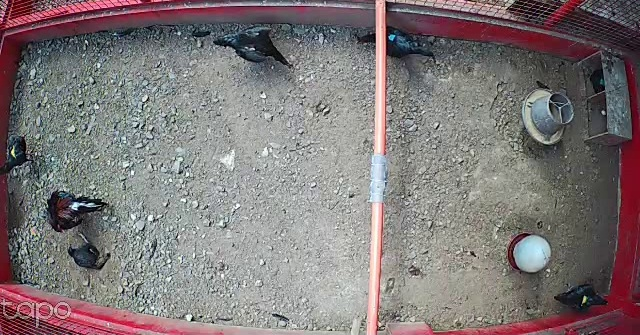Chicken: (212, 25, 295, 71), (353, 20, 434, 65), (551, 282, 614, 315), (63, 230, 112, 272), (0, 136, 34, 180)
Rooster: (44, 189, 110, 235)
Saddle_Color_Blue: (386, 33, 397, 43)
Saddle_Color_Green: (600, 79, 604, 84)
Saddle_Color_Yellow: (10, 146, 19, 157)
Saddle_Color_YellowGreen: (580, 295, 590, 305)
